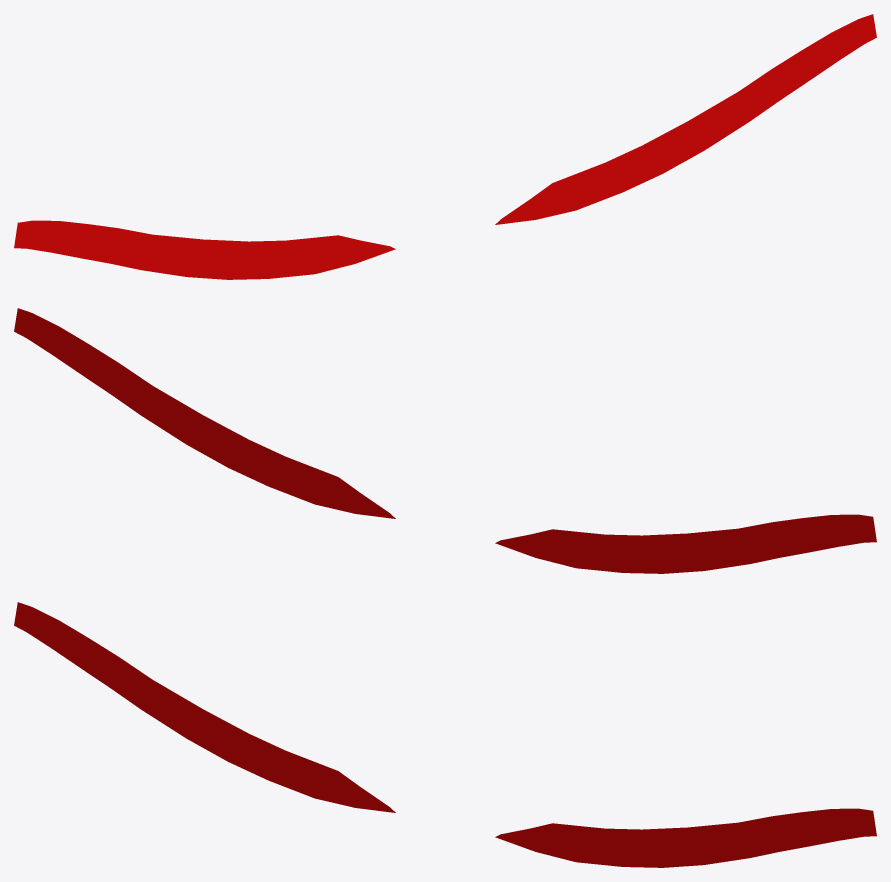
The model's file is frame102.fbx.
The picture shows the model from 3 angles, top to bottom: view 1: azimuth 30°, elevation 25°; view 2: azimuth 150°, elevation 25°; view 3: azimuth 330°, elevation 25°; orthographic projection.
Visible parts, largest first — view 1: MaterialLayer; view 2: MaterialLayer; view 3: MaterialLayer.
Boxes of the visible parts, <box> form: MaterialLayer: <box>14,14,876,279</box>; MaterialLayer: <box>14,308,876,573</box>; MaterialLayer: <box>14,602,876,867</box>.
Bounding box in the file's own units: 1363 × 187 × 1.46e-11.
